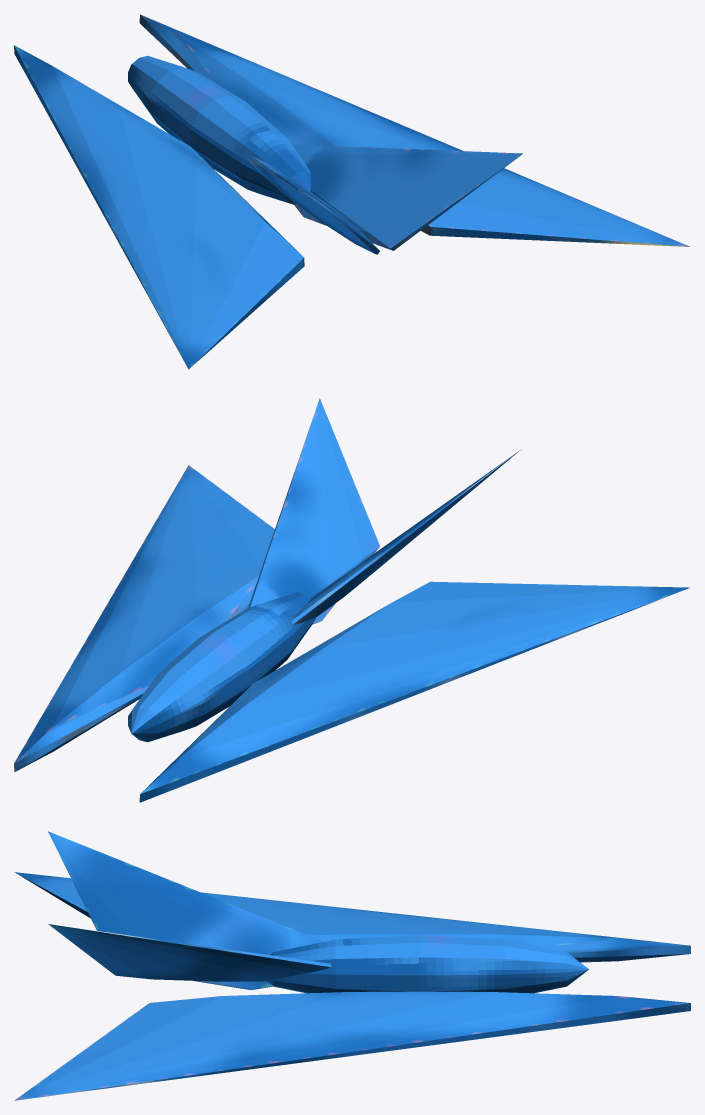
Rendered from player_fighter.obj.
The picture shows the model from 3 angles, top to bottom: view 1: azimuth 30°, elevation 25°; view 2: azimuth 150°, elevation 25°; view 3: azimuth 270°, elevation 25°; orthographic projection. The views are drawn at different scales.
Parts seen in each view (by area): view 1: Left Wing, Right Wing, Right Tail, Body, Left Tail; view 2: Left Wing, Right Wing, Right Tail, Body, Left Tail; view 3: Right Wing, Body, Left Tail, Left Wing, Right Tail.
Boxes of the visible parts, box(x1,y1,x2,y2) form: Left Wing: box(14, 45, 304, 369); Right Wing: box(139, 14, 689, 246); Right Tail: box(292, 144, 522, 250); Body: box(128, 55, 310, 204); Left Tail: box(246, 154, 379, 254); Left Wing: box(139, 581, 689, 802); Right Wing: box(14, 465, 274, 771); Right Tail: box(248, 398, 379, 624); Body: box(128, 592, 316, 742); Left Tail: box(291, 449, 521, 624); Right Wing: box(14, 991, 690, 1100); Body: box(268, 935, 588, 993); Left Tail: box(48, 831, 323, 990); Left Wing: box(14, 872, 690, 962); Right Tail: box(48, 924, 331, 981).
Bounding box in the file's own units: 0.9992 × 0.2495 × 1.25.
Materials: 5 (5 with a texture image).
